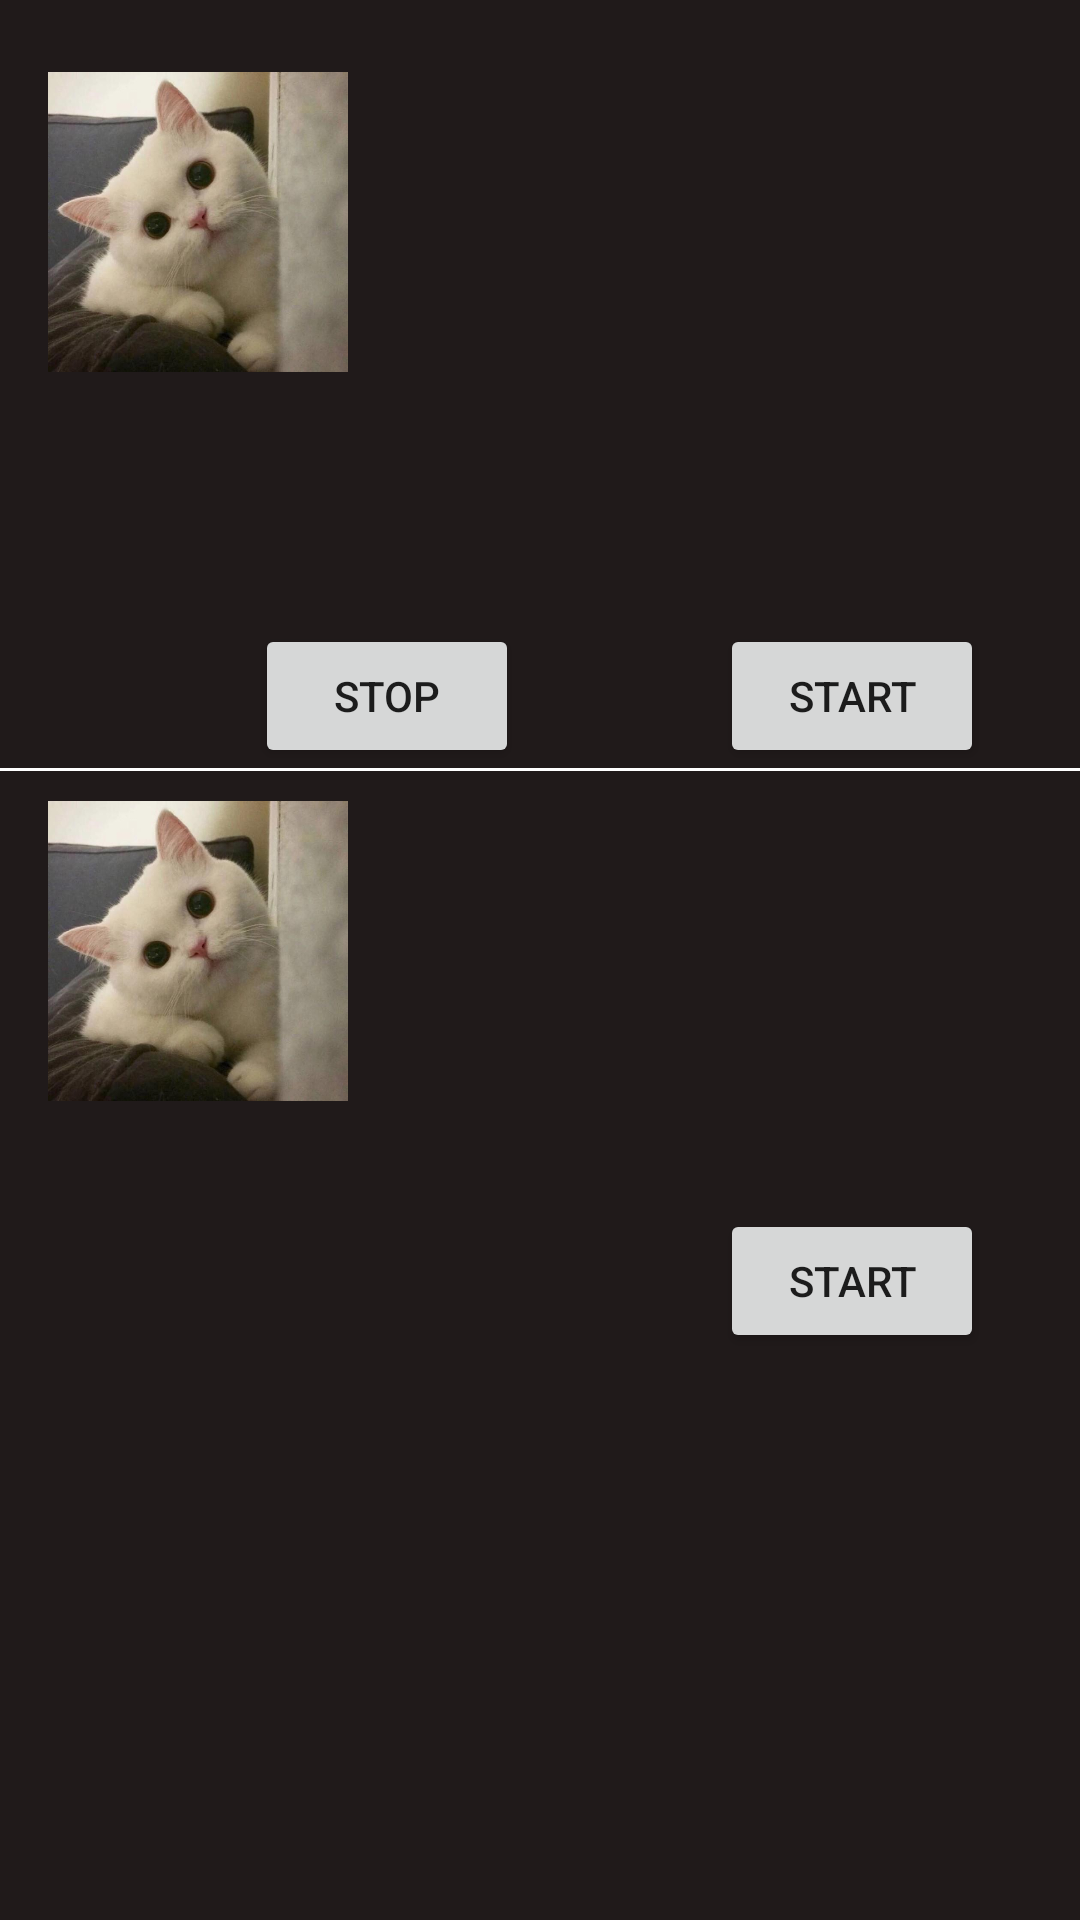

Icon click points for this 1080px x 1920px phone screenshot, format point (x, y):
cat: point (198, 222), point (198, 951)
